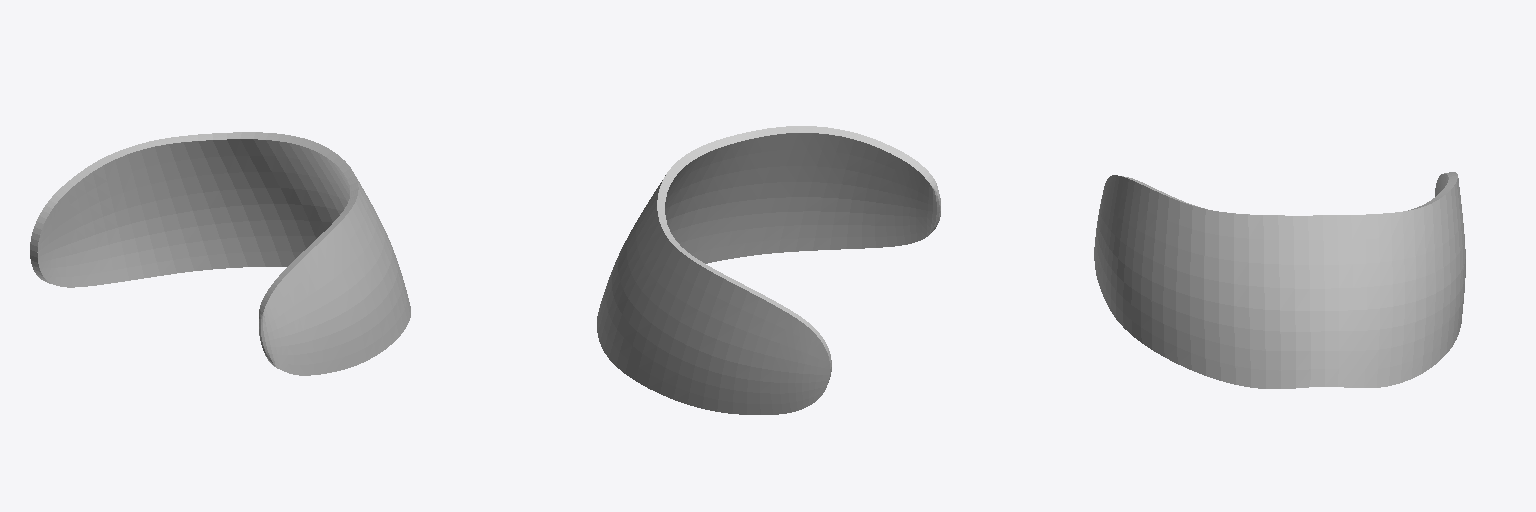
File: visorOnly.obj
The picture shows the model from 3 angles: view 1: azimuth 30°, elevation 25°; view 2: azimuth 150°, elevation 25°; view 3: azimuth 270°, elevation 25°; orthographic projection.
Visible parts, largest first — view 1: 10517_Motorcycle_Helmet_v01_L3; view 2: 10517_Motorcycle_Helmet_v01_L3; view 3: 10517_Motorcycle_Helmet_v01_L3.
Boxes of the visible parts, x1=… form: 10517_Motorcycle_Helmet_v01_L3: x1=30, y1=132, x2=410, y2=375; 10517_Motorcycle_Helmet_v01_L3: x1=597, y1=126, x2=940, y2=414; 10517_Motorcycle_Helmet_v01_L3: x1=1094, y1=172, x2=1465, y2=388.
Size of the model in its own units: 30.44 by 16.29 by 33.96.